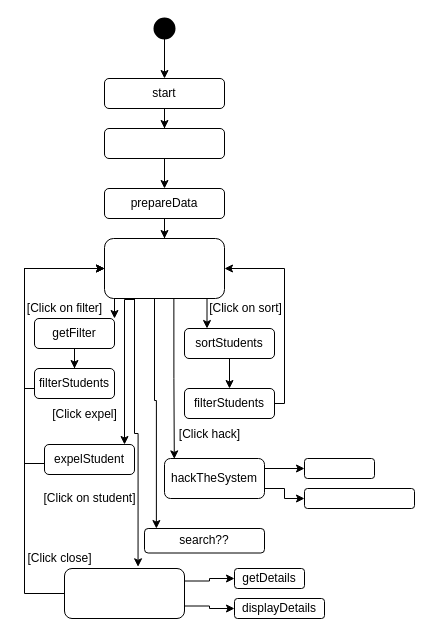
Some shapes in this 432 by 636 pixel diagram are drawn without their labels. Each missing label, with the centre of its shape:
"addMe" goes at (x=339, y=468).
"coruptBloodStatus" goes at (x=359, y=498).
"displayStudents" goes at (x=164, y=268).
"openPopup" goes at (x=124, y=593).
"readJSON" goes at (x=164, y=143).
